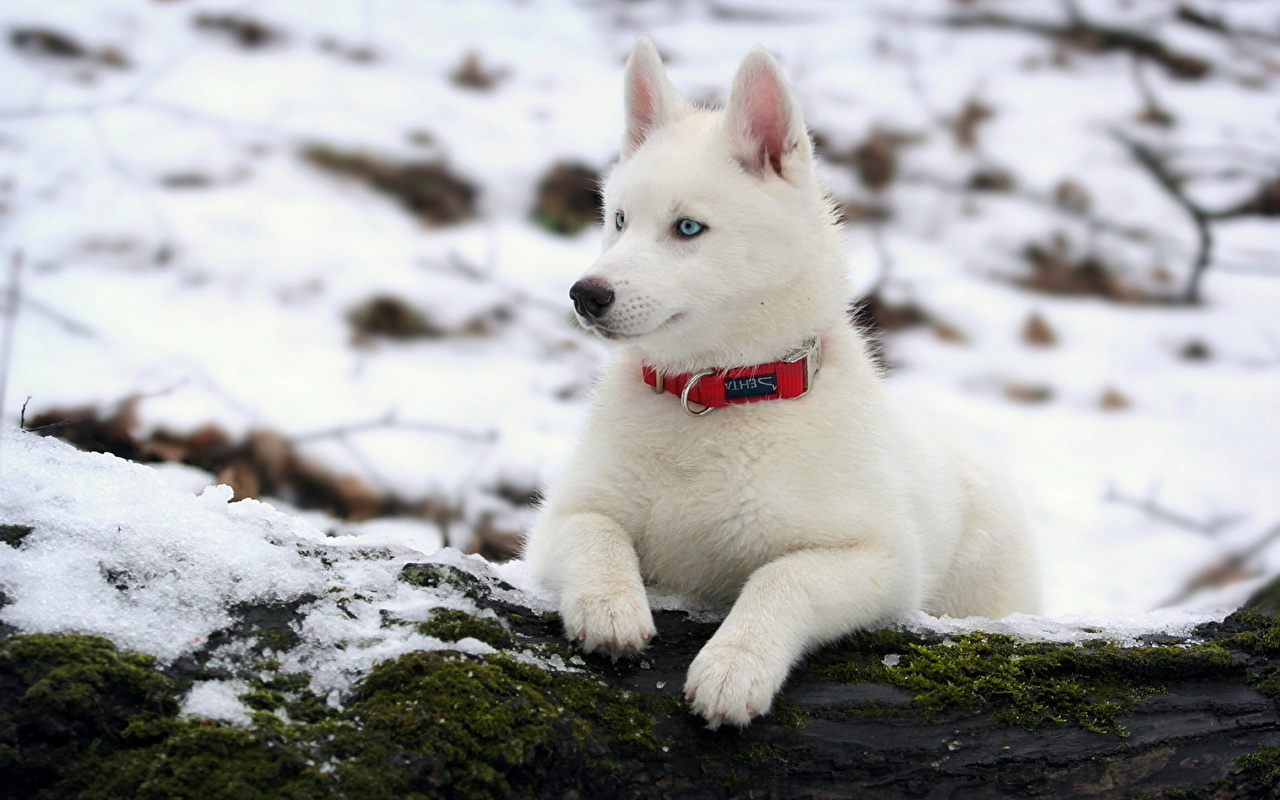husky: (540, 26, 884, 526)
